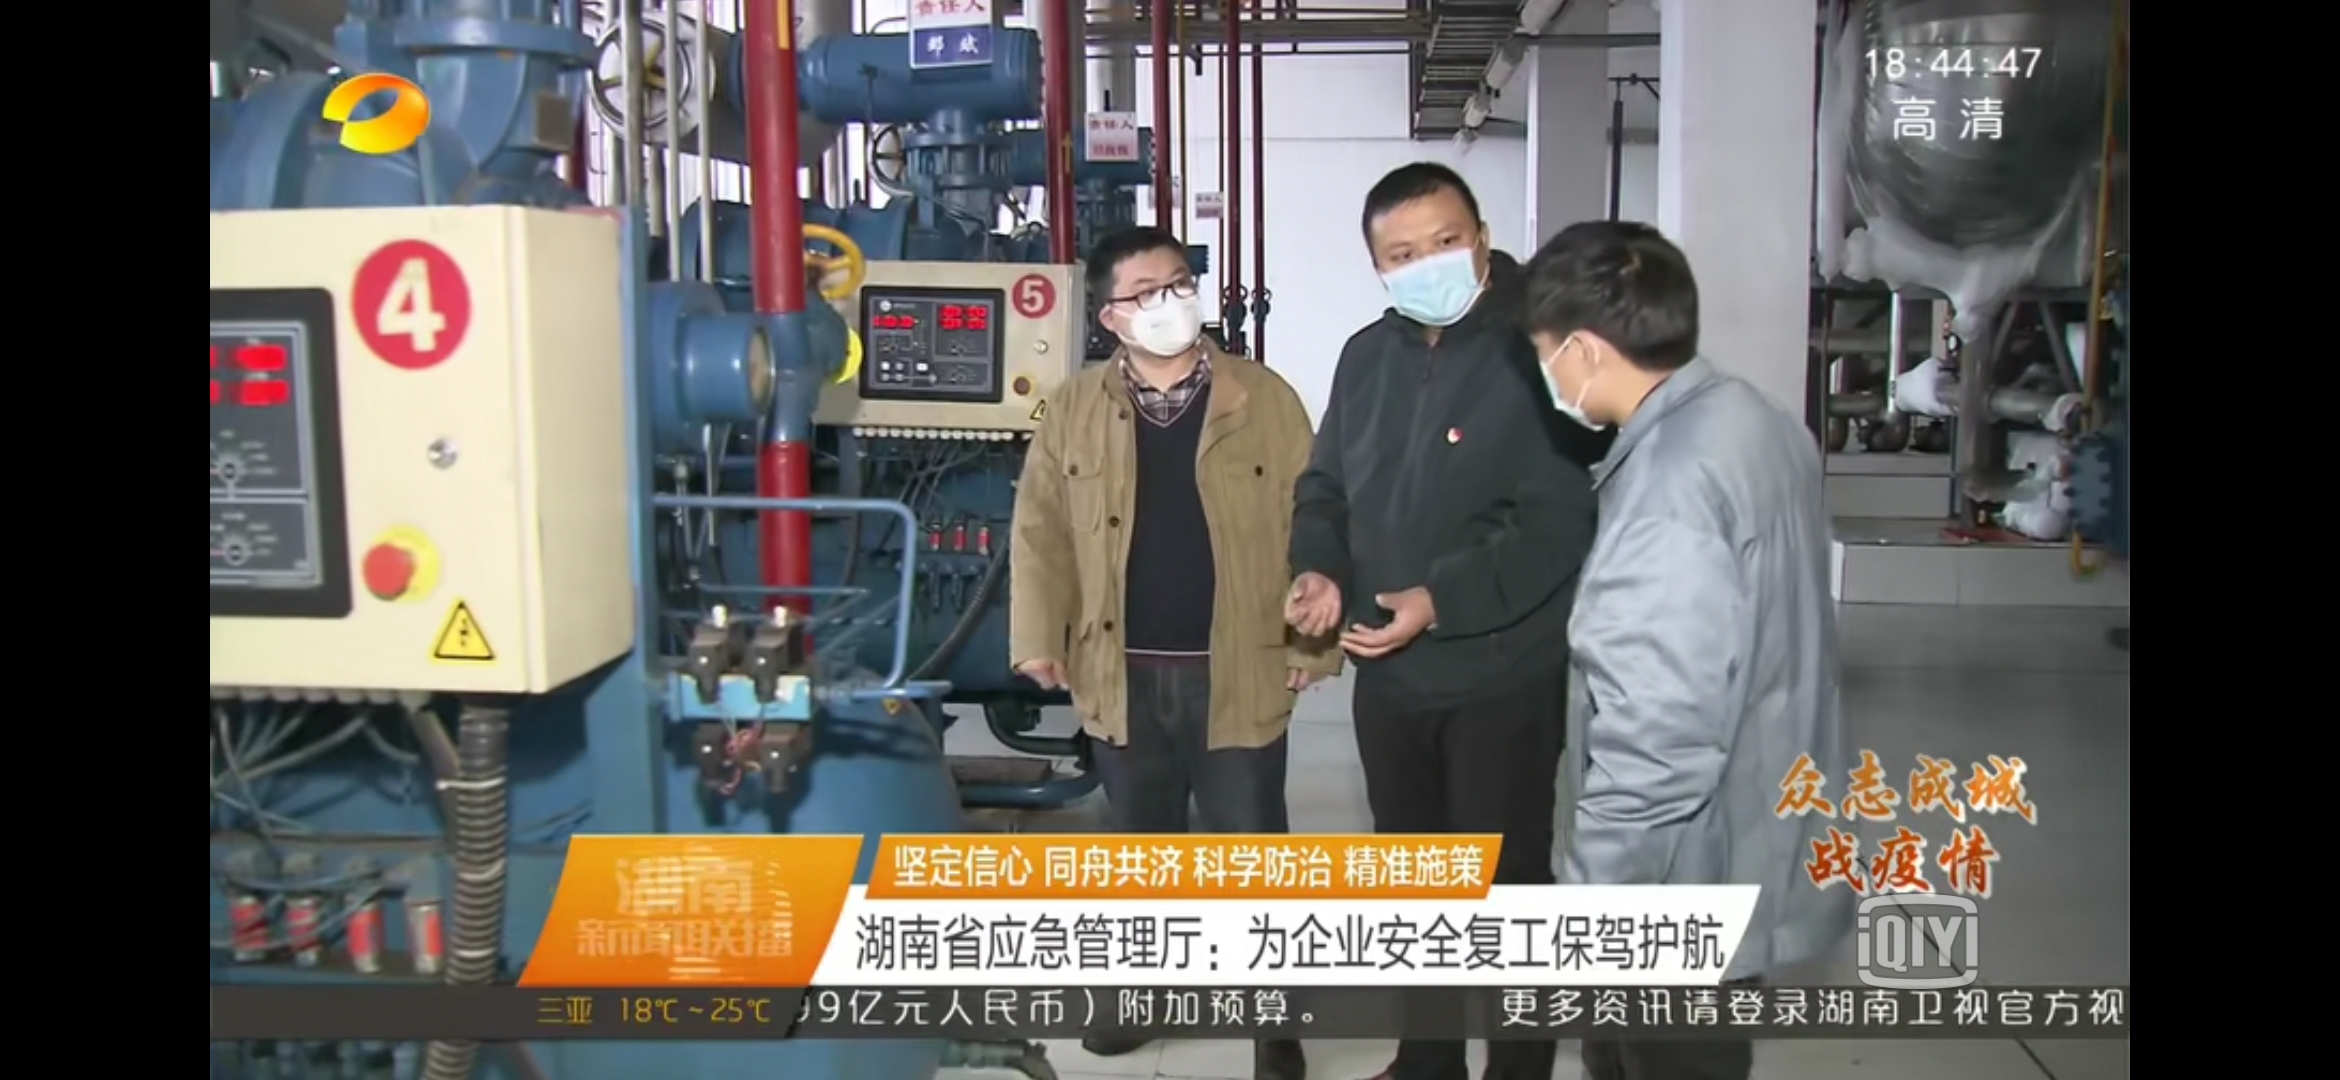correctlyWear: (1367, 216, 1486, 324), (1525, 291, 1615, 434), (1095, 266, 1207, 358)
